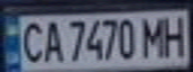0: (118, 16, 139, 60)
4: (84, 16, 106, 61)
7: (63, 17, 87, 62), (100, 16, 121, 61)
A: (39, 18, 66, 64)
C: (18, 18, 48, 64)
H: (160, 11, 190, 58)
M: (139, 14, 169, 58)
